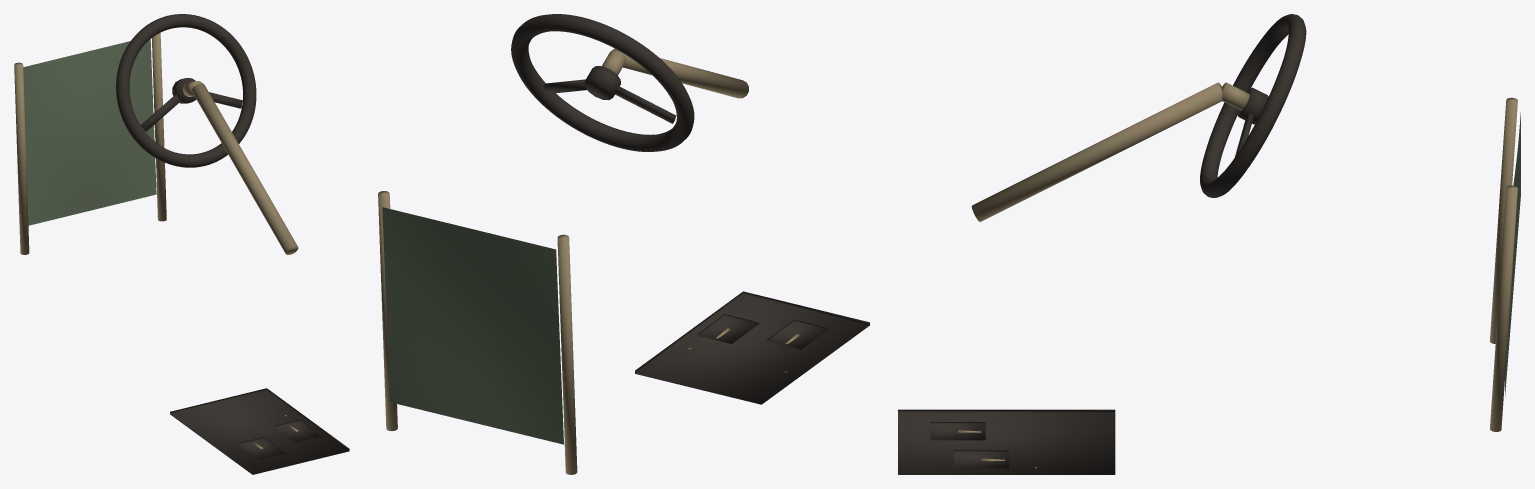
File: steering_dos_cv.glb
The picture shows the model from 3 angles, left to right: view 1: azimuth 30°, elevation 25°; view 2: azimuth 150°, elevation 25°; view 3: azimuth 270°, elevation 25°; orthographic projection. The views are drawn at different scales.
Parts seen in each view (by area): view 1: Abuela83_respaldo_lona_continuo, Abuela83_apoyo_pies_con_grosor, Abuela83_aro_dos_radios, Abuela83_apoyo_pies_anclaje_C2_0; view 2: Abuela83_respaldo_lona_continuo, Abuela83_apoyo_pies_con_grosor, Abuela83_aro_dos_radios, Abuela83_apoyo_pies_anclaje_C2_0; view 3: Abuela83_apoyo_pies_con_grosor, Abuela83_apoyo_pies_anclaje_C2_0, Abuela83_aro_dos_radios, Abuela83_respaldo_lona_continuo.
Boxes of the visible parts, x1=… form: Abuela83_respaldo_lona_continuo: x1=23, y1=39, x2=156, y2=225; Abuela83_apoyo_pies_con_grosor: x1=170, y1=388, x2=349, y2=474; Abuela83_aro_dos_radios: x1=116, y1=14, x2=256, y2=167; Abuela83_apoyo_pies_anclaje_C2_0: x1=14, y1=32, x2=298, y2=449; Abuela83_respaldo_lona_continuo: x1=382, y1=207, x2=563, y2=444; Abuela83_apoyo_pies_con_grosor: x1=635, y1=291, x2=869, y2=404; Abuela83_aro_dos_radios: x1=511, y1=14, x2=694, y2=151; Abuela83_apoyo_pies_anclaje_C2_0: x1=378, y1=48, x2=799, y2=474; Abuela83_apoyo_pies_con_grosor: x1=898, y1=409, x2=1115, y2=474; Abuela83_apoyo_pies_anclaje_C2_0: x1=958, y1=82, x2=1517, y2=468; Abuela83_aro_dos_radios: x1=1200, y1=14, x2=1306, y2=197; Abuela83_respaldo_lona_continuo: x1=1505, y1=112, x2=1520, y2=396.
Bounding box in the file's own units: 0.374 × 0.8239 × 1.06.
